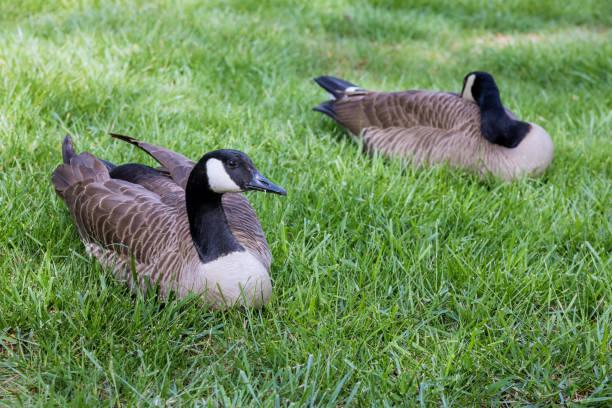Canadian-Goose: (53, 131, 288, 314), (315, 71, 556, 185)
